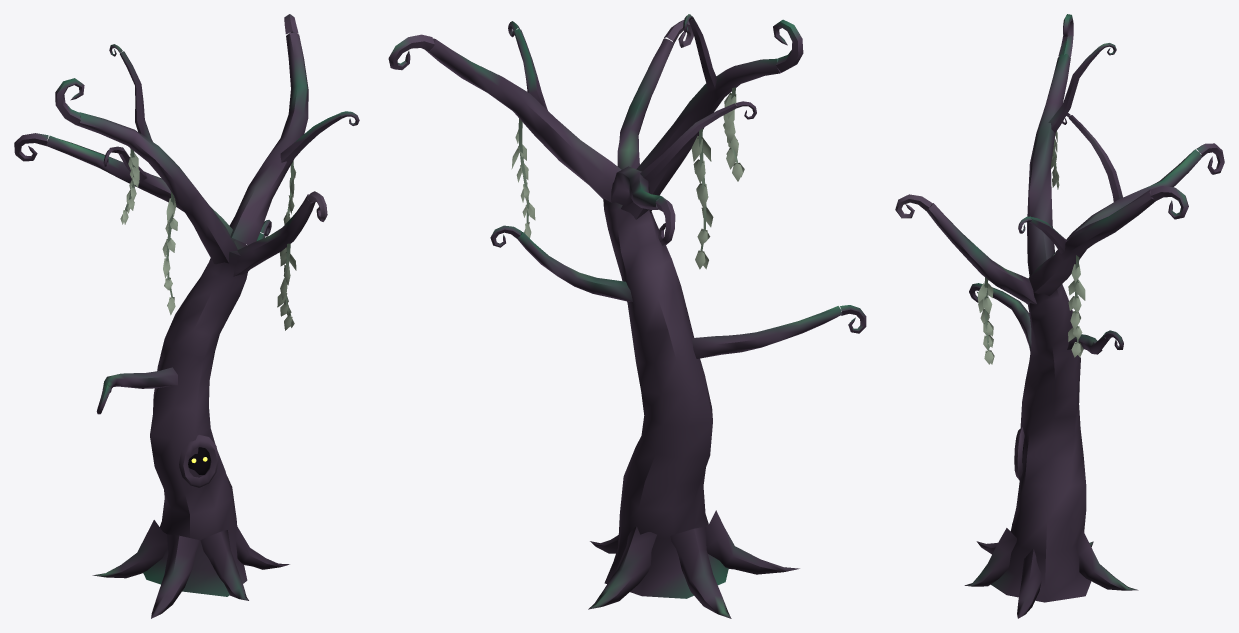
File: spooky_tree.glb
The picture shows the model from 3 angles, left to right: view 1: azimuth 30°, elevation 25°; view 2: azimuth 150°, elevation 25°; view 3: azimuth 270°, elevation 25°; orthographic projection. The views are drawn at different scales.
Parts seen in each view (by area): view 1: spooky_tree; view 2: spooky_tree; view 3: spooky_tree.
Part boxes in pixels (bbox=[...]): spooky_tree: bbox=[14, 14, 359, 618]; spooky_tree: bbox=[388, 14, 866, 618]; spooky_tree: bbox=[895, 14, 1224, 618].
Size of the model in its own units: 3.69 by 6 by 3.49.
